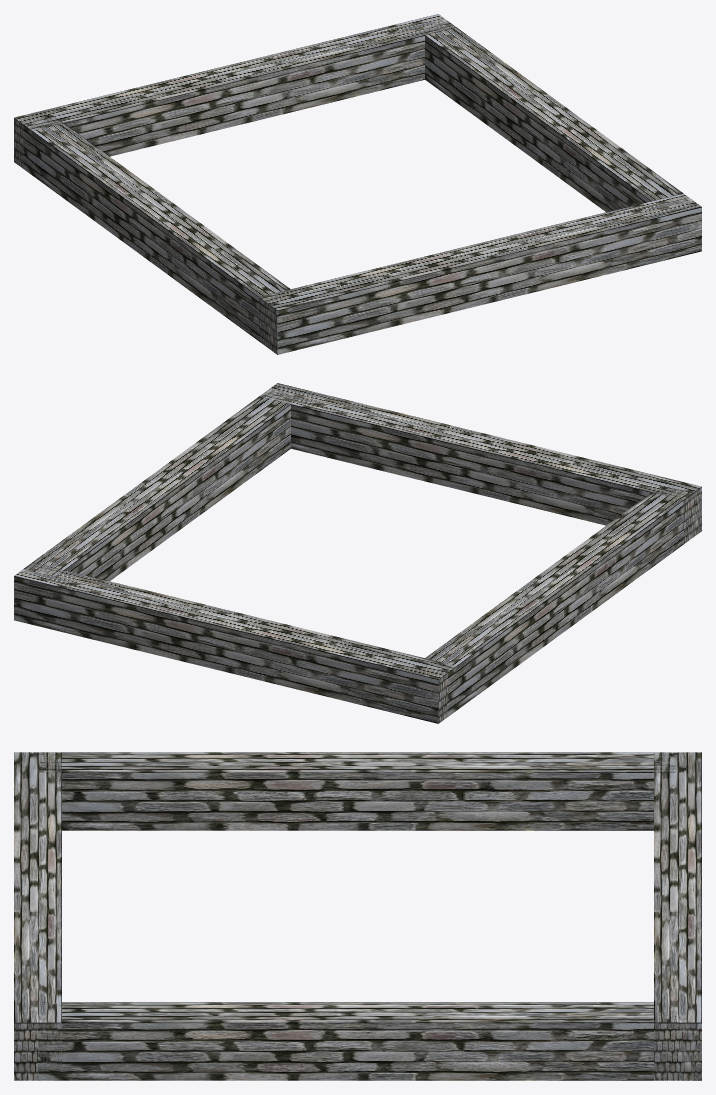
File: stonewall.obj
3 renders of one model, top to bottom at view 1: azimuth 30°, elevation 25°; view 2: azimuth 150°, elevation 25°; view 3: azimuth 270°, elevation 25°, orthographic. The views are drawn at different scales.
Parts seen in each view (by area): view 1: Box001, Box002, Box003, Box004; view 2: Box002, Box001, Box003, Box004; view 3: Box004, Box003, Box002, Box001.
Part boxes in pixels (x1=…): Box001: x1=259, y1=193, x2=701, y2=354; Box002: x1=14, y1=14, x2=456, y2=168; Box003: x1=23, y1=117, x2=290, y2=346; Box004: x1=417, y1=21, x2=692, y2=212; Box002: x1=14, y1=562, x2=456, y2=723; Box001: x1=259, y1=383, x2=701, y2=543; Box003: x1=420, y1=486, x2=692, y2=716; Box004: x1=23, y1=390, x2=298, y2=581; Box004: x1=38, y1=1002, x2=677, y2=1080; Box003: x1=38, y1=752, x2=677, y2=830; Box002: x1=654, y1=752, x2=701, y2=1080; Box001: x1=14, y1=752, x2=61, y2=1080.
Size of the model in its own units: 78.74 by 7.87 by 84.65.
